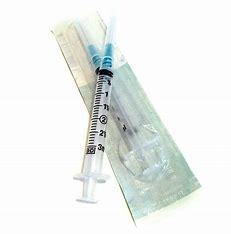Syringe: (69, 7, 126, 206)
